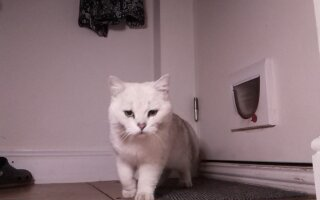bad: (105, 72, 204, 199)
